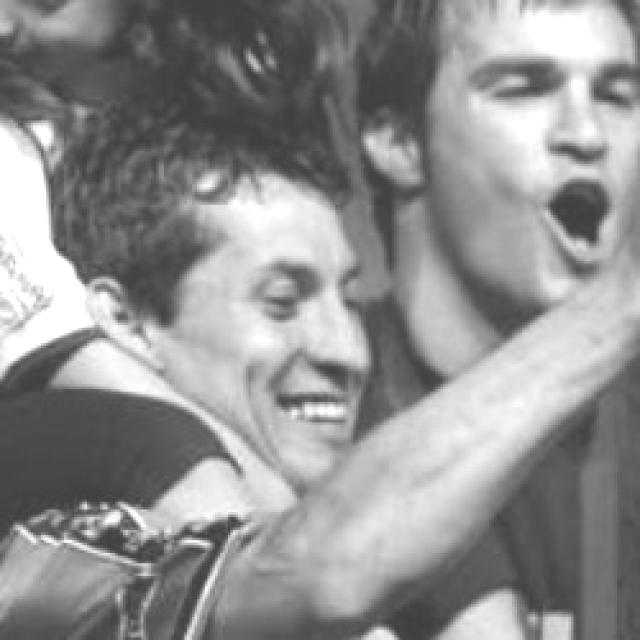real: (108, 105, 364, 482), (441, 0, 640, 301), (478, 66, 637, 120), (244, 267, 367, 324)
